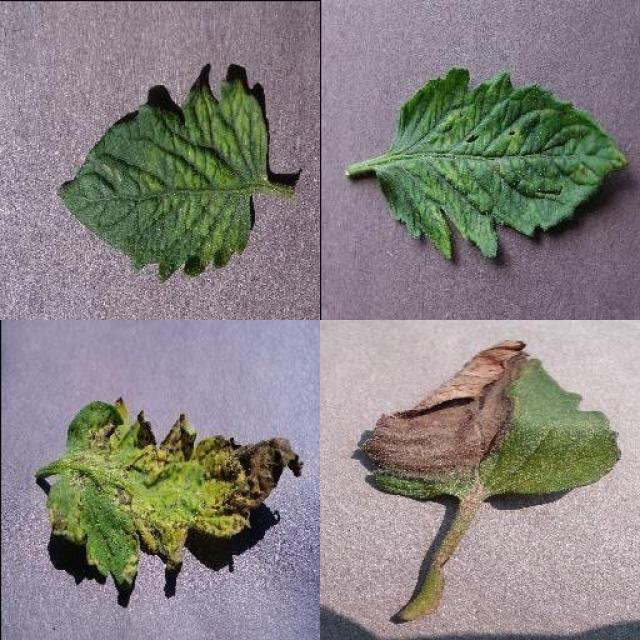Late Blight: (357, 338, 622, 500)
Septoria: (49, 399, 304, 586)
